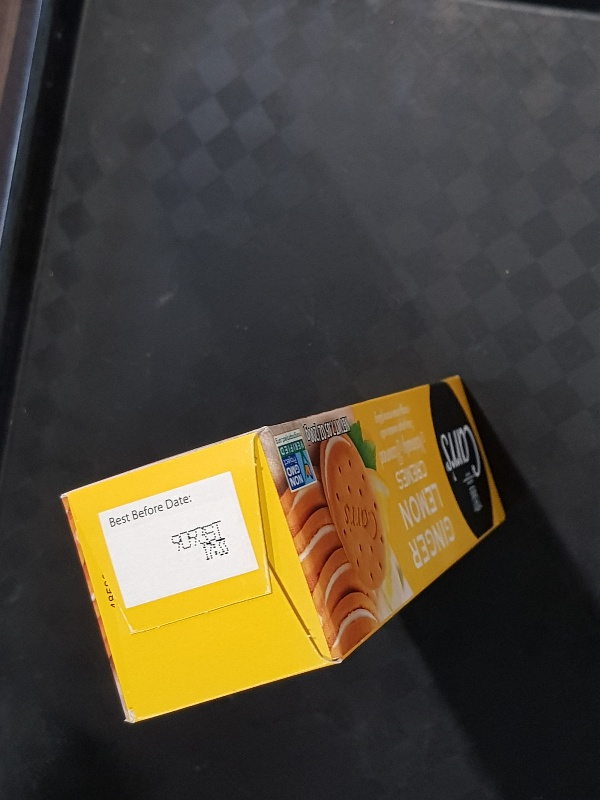Carr's Ginger Lemon Cremes: (59, 370, 507, 726)
